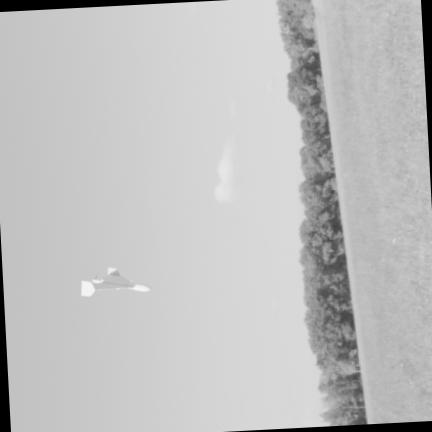Shahed: (81, 266, 150, 295)
